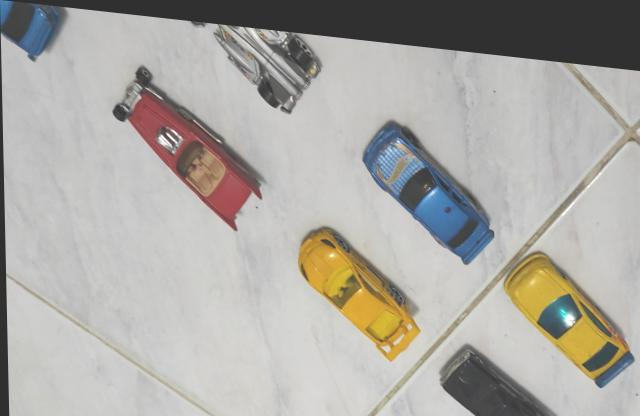01_FORD: (435, 332, 562, 416)
02_OZSOME: (501, 237, 635, 376)
03_V8: (112, 63, 265, 224)
04_MERZEDES: (360, 109, 495, 254), (0, 0, 67, 61)
05_DC121: (191, 17, 322, 107)
07_RHLTURBO: (295, 217, 421, 351)
